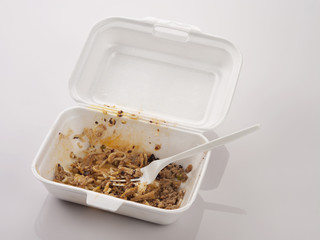styrofoam: (31, 17, 242, 226)
